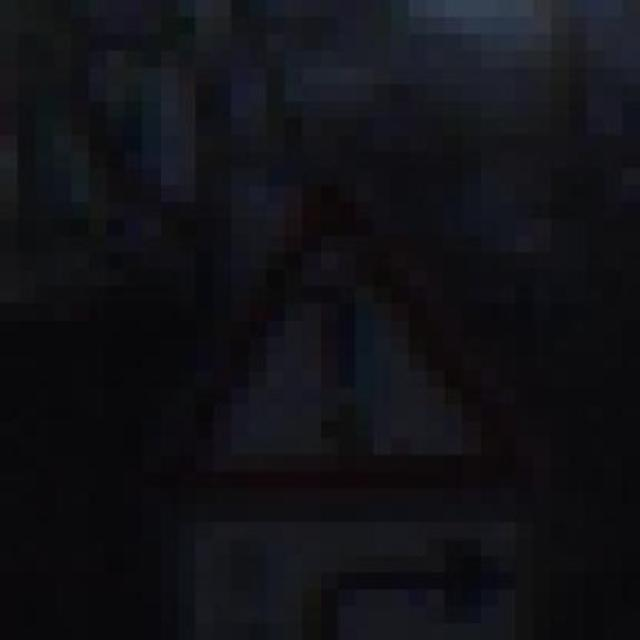Attention Please-: (85, 153, 583, 524)
